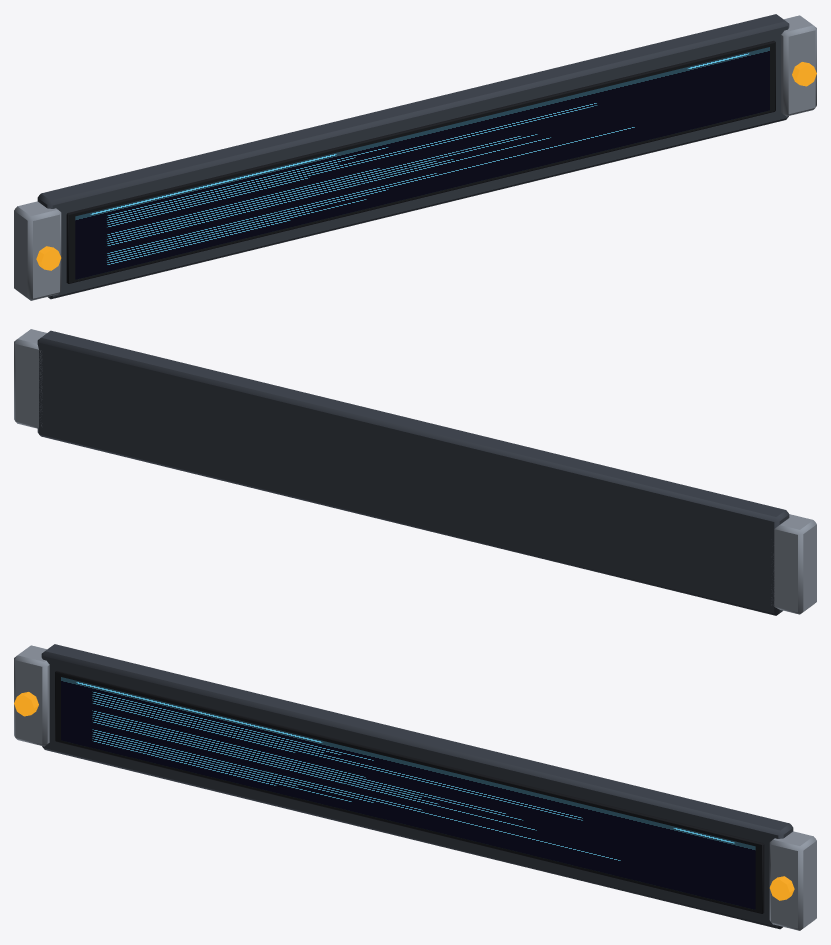
The model's file is display_ticker_banner.glb.
The picture shows the model from 3 angles, top to bottom: view 1: azimuth 30°, elevation 25°; view 2: azimuth 150°, elevation 25°; view 3: azimuth 330°, elevation 25°; orthographic projection.
Visible parts, largest first — view 1: display_ticker_banner; view 2: display_ticker_banner; view 3: display_ticker_banner.
Part boxes in pixels (x1,y1,x2,y2): display_ticker_banner: (14, 14, 816, 300); display_ticker_banner: (14, 329, 816, 615); display_ticker_banner: (14, 644, 816, 930).
Size of the model in its own units: 2.34 by 0.28 by 0.115.
5 materials, 1 textured.
